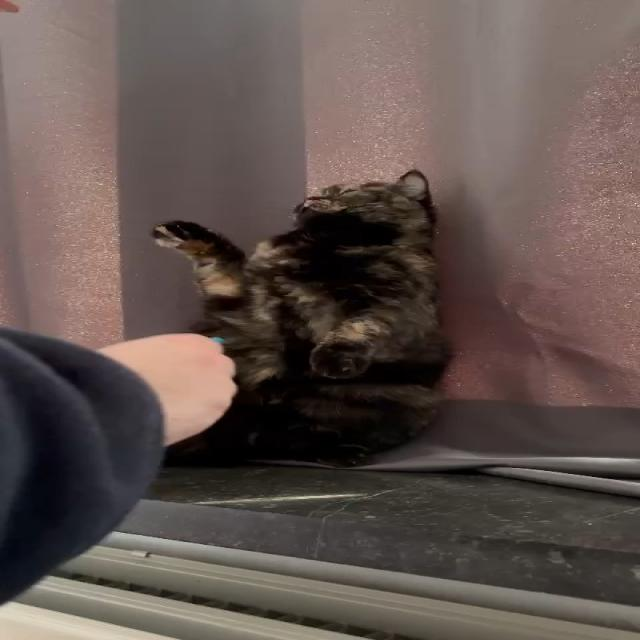authorized: (149, 168, 455, 468)
